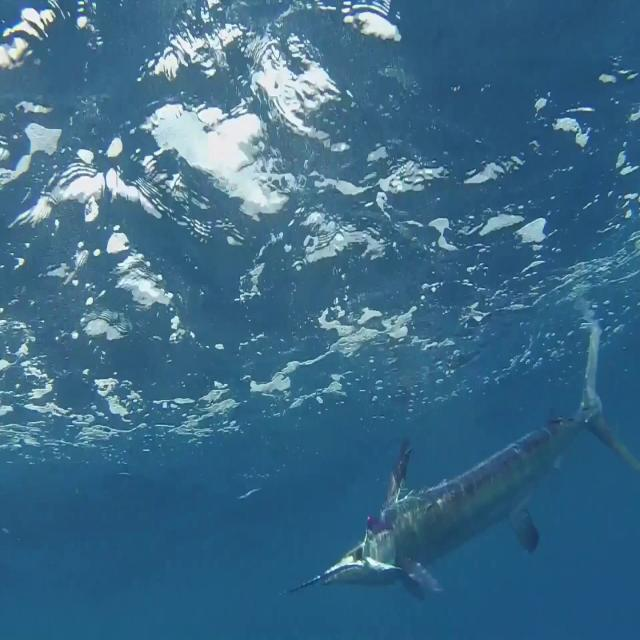Spear Fish: (277, 321, 640, 603)
